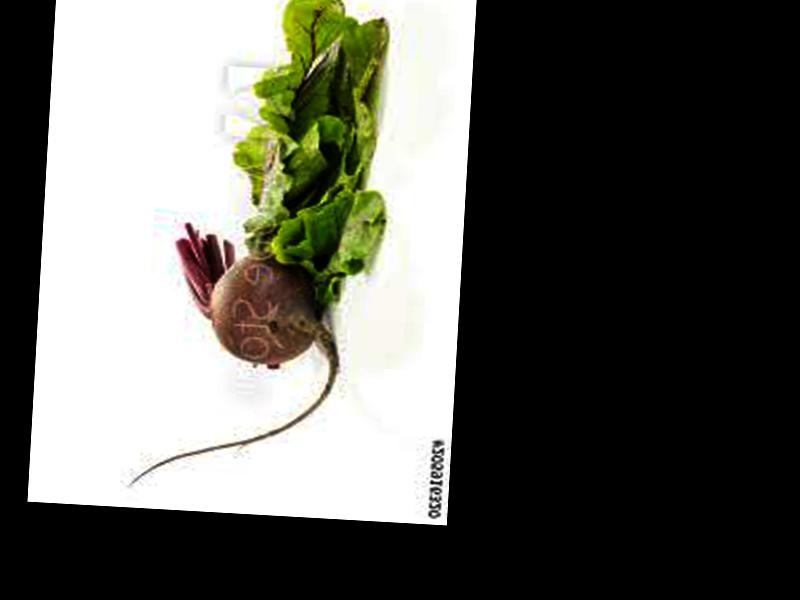Beet: (127, 216, 346, 500)
